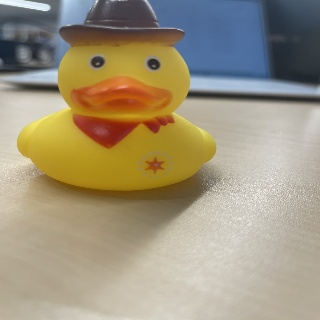duck_specialty: (16, 0, 216, 190)
